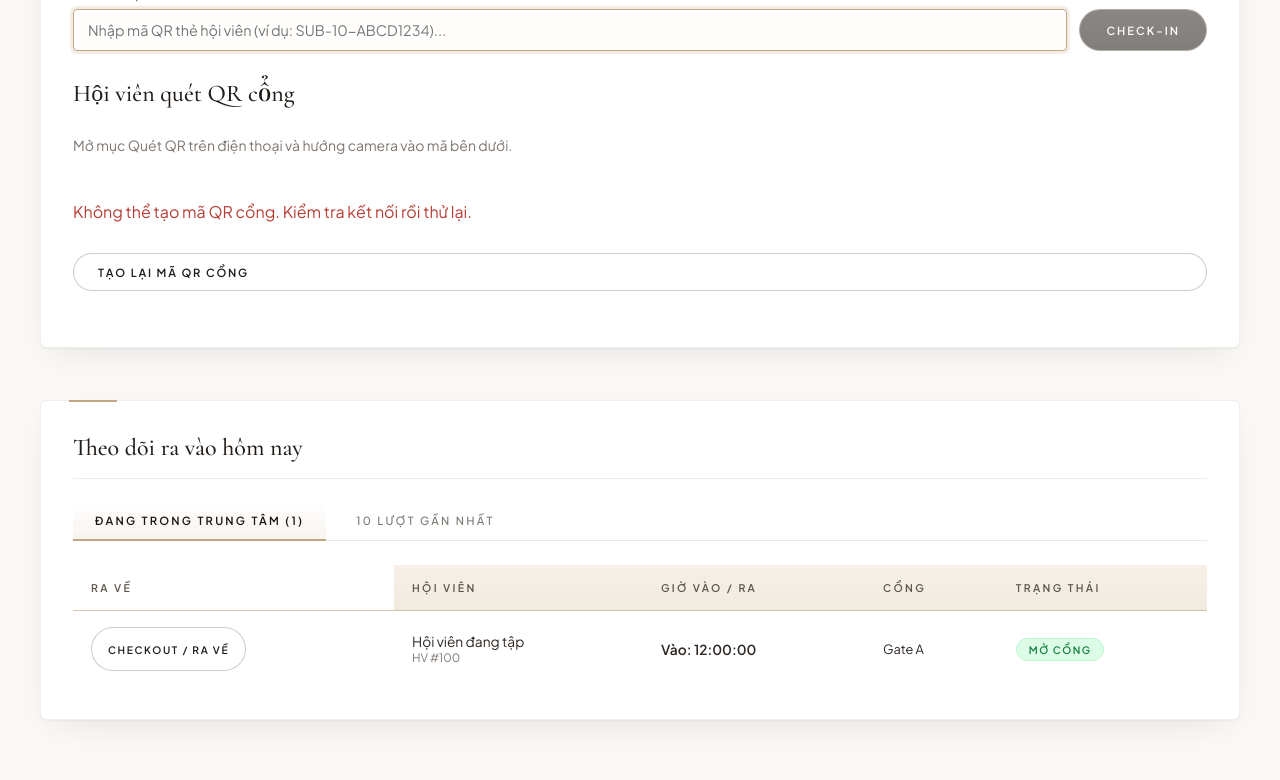
Scenario: checks out through the real API client and removes the visit from the open list
(page scrolled)
Click the button "Checkout / Ra về" at (169, 650), box [91, 628, 246, 672]
(page scrolled)
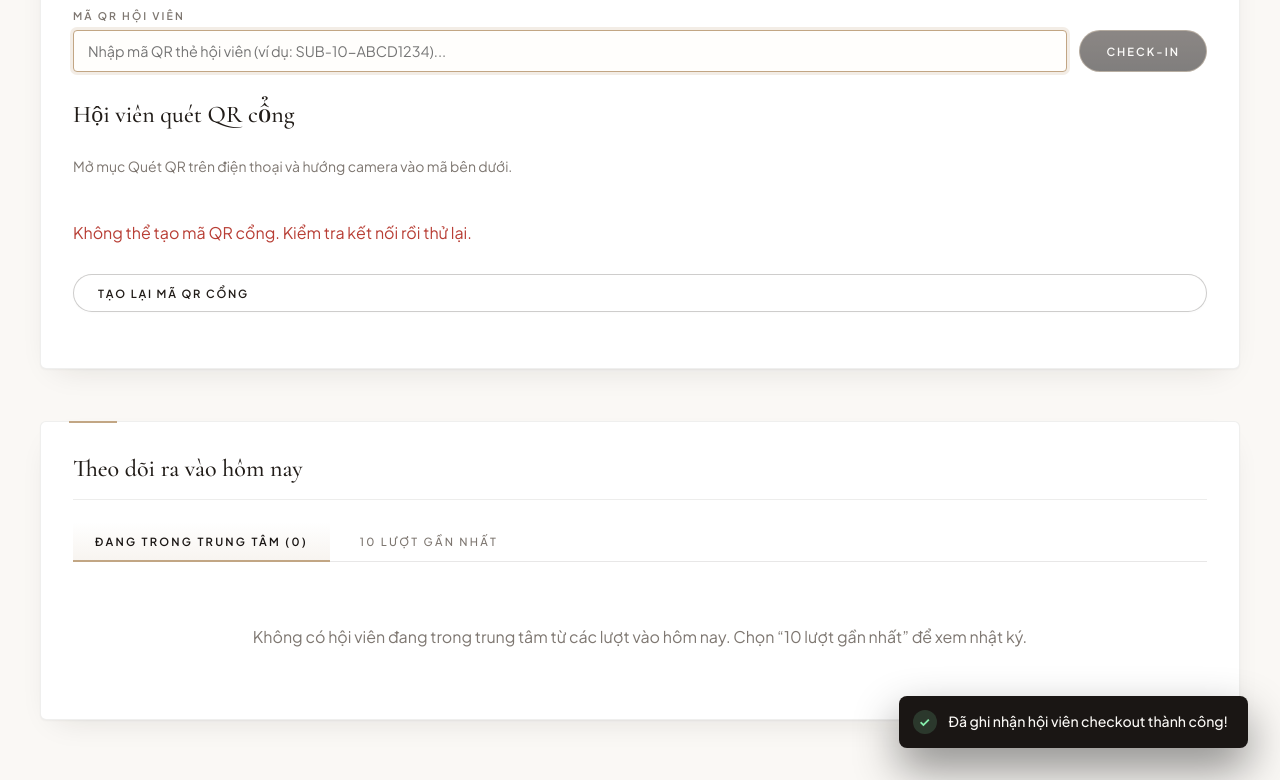
Expected: the text "Không có hội viên đang trong trung tâm" is shown, [253, 626, 1027, 648]
Expected: the message with class "sol-toast--success" shows "thành công", [948, 712, 1228, 730]
